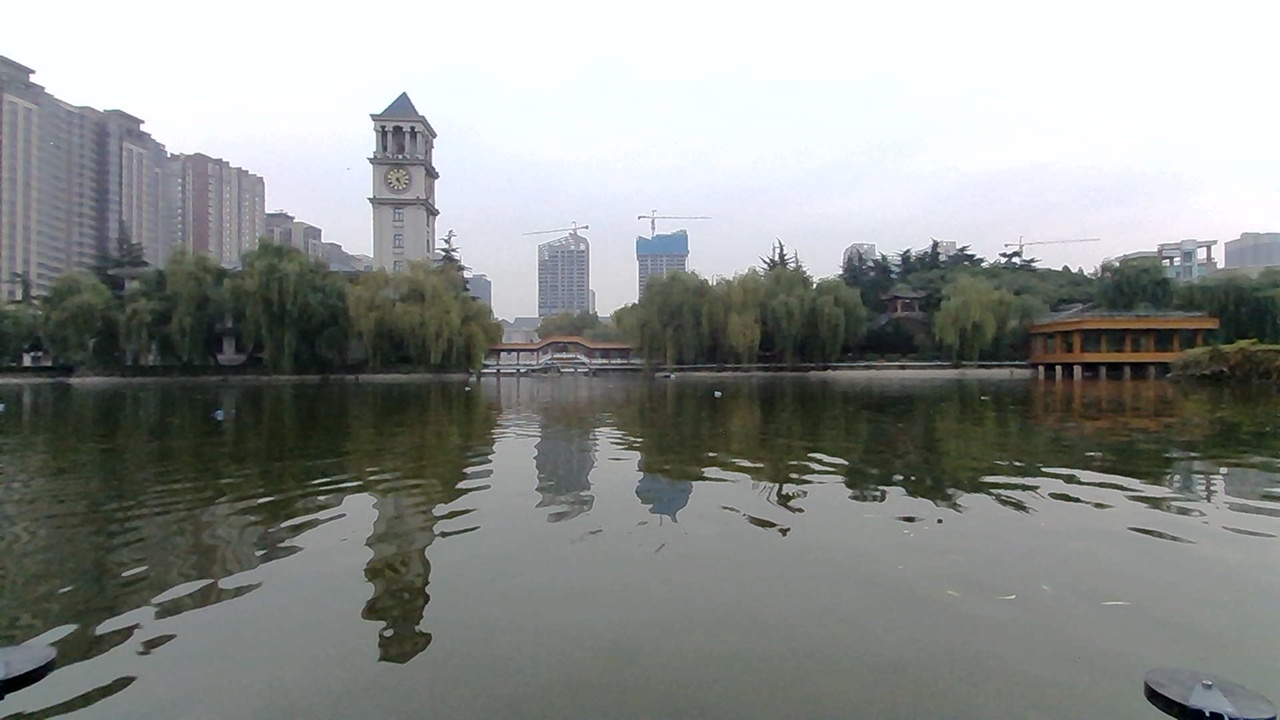bottle: (699, 382, 742, 406), (206, 403, 240, 425)
